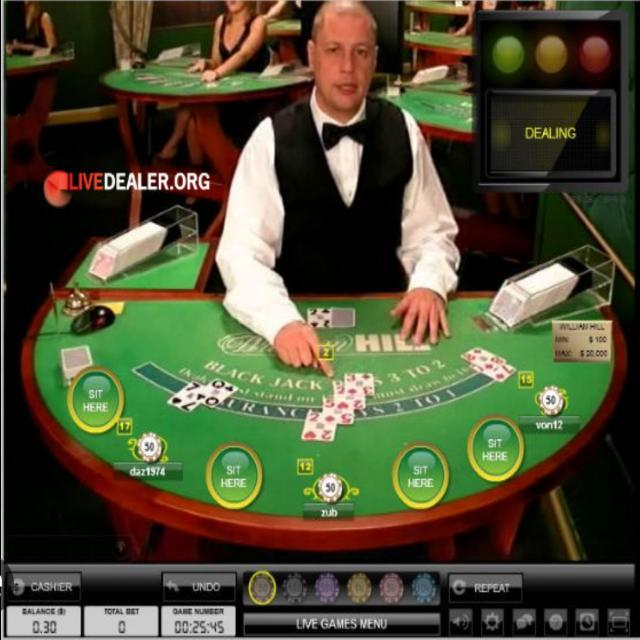Card-2: (302, 409, 335, 441), (334, 381, 365, 407), (308, 308, 332, 326)
Card-3: (345, 373, 374, 395)
Card-5: (322, 397, 353, 424)
Card-7: (167, 380, 205, 413), (470, 363, 517, 383)
Card-8: (462, 346, 506, 373)
Card-Q: (192, 378, 239, 408)
